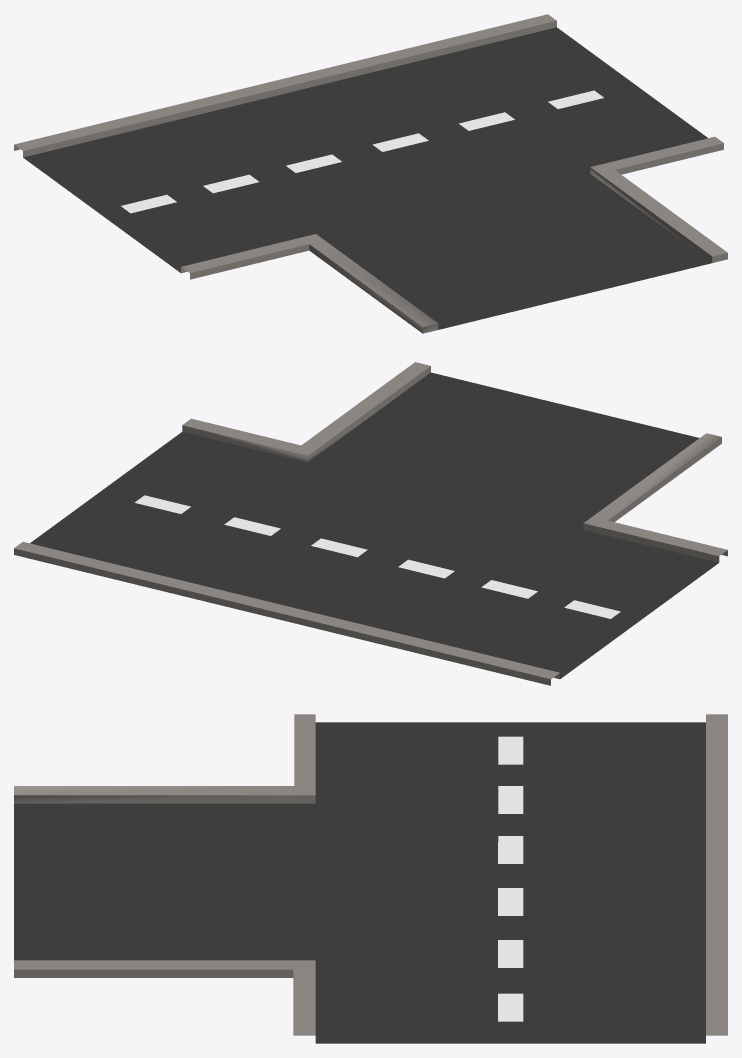
File: RoadTile_5.fbx
The picture shows the model from 3 angles, top to bottom: view 1: azimuth 30°, elevation 25°; view 2: azimuth 150°, elevation 25°; view 3: azimuth 270°, elevation 25°; orthographic projection. The views are drawn at different scales.
Visible parts, largest first — view 1: RoadTile_5; view 2: RoadTile_5; view 3: RoadTile_5.
Boxes of the visible parts, x1,y1,x2,y2 form: RoadTile_5: (14, 14, 727, 333); RoadTile_5: (14, 362, 727, 685); RoadTile_5: (14, 714, 727, 1043).
Bounding box in the file's own units: 1025 × 12 × 962.
